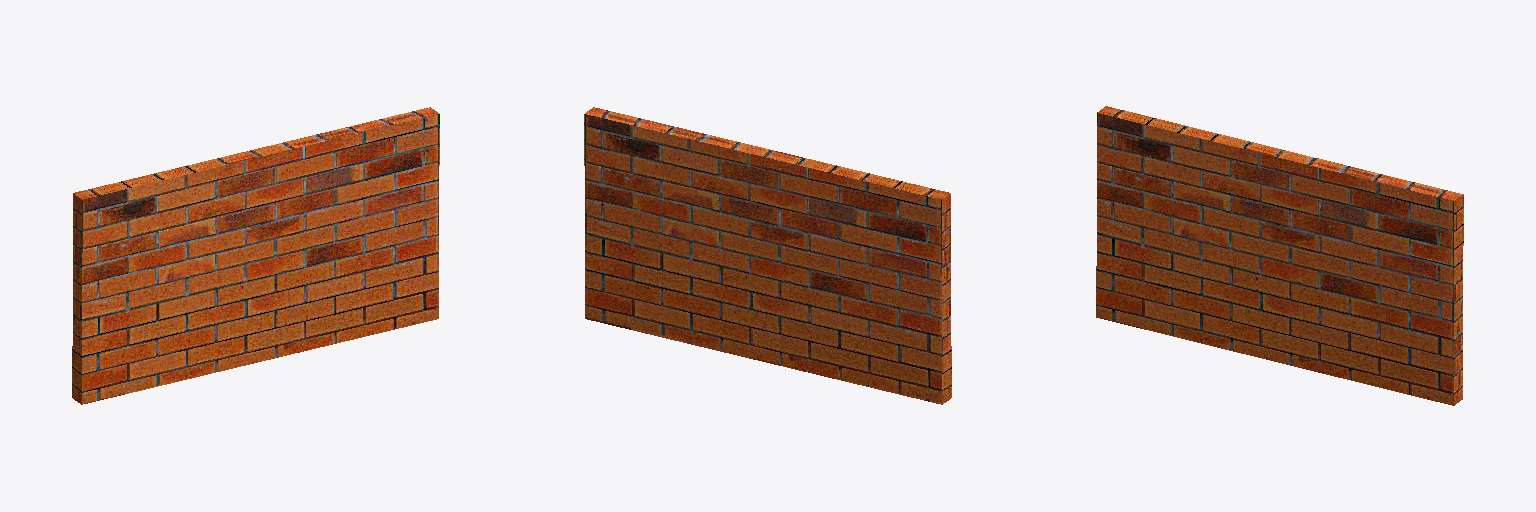
The picture shows the model from 3 angles: view 1: azimuth 30°, elevation 25°; view 2: azimuth 150°, elevation 25°; view 3: azimuth 330°, elevation 25°; orthographic projection.
Parts seen in each view (by area): view 1: Cubo; view 2: Cubo; view 3: Cubo.
Boxes of the visible parts, box(x1,y1,x2,y2) form: Cubo: box(72, 107, 439, 404); Cubo: box(584, 107, 951, 404); Cubo: box(1096, 106, 1463, 405).
Size of the model in its own units: 8.03 by 4.42 by 0.3583.
Materials: 1 (1 with a texture image).